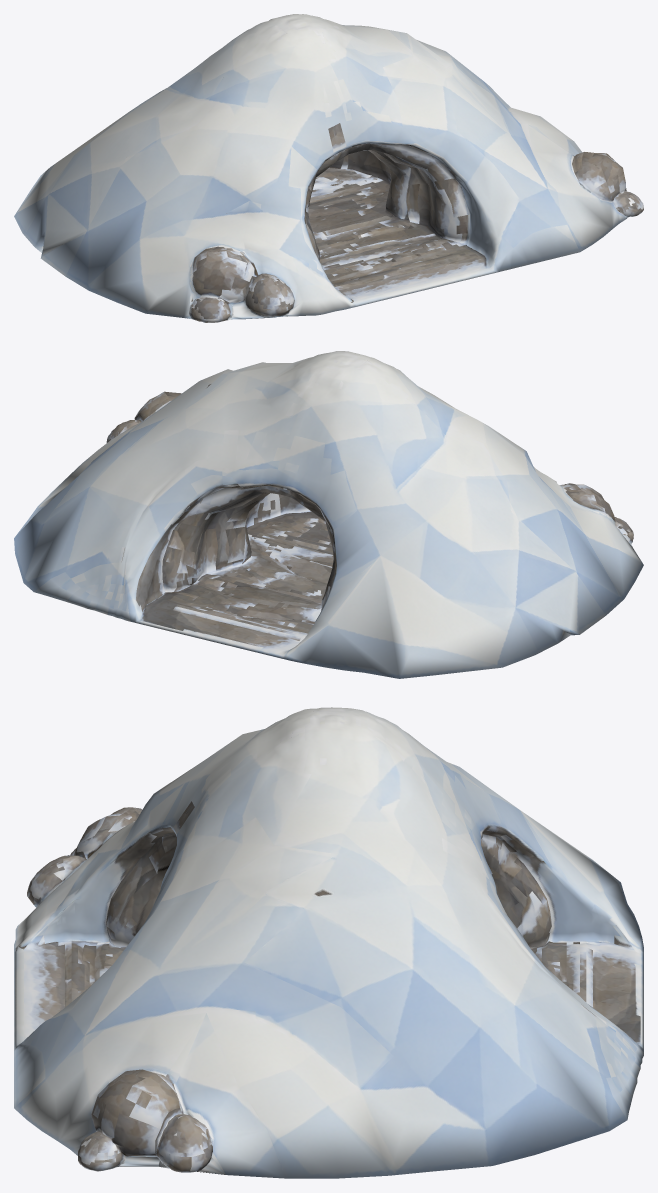
The model's file is mountain0_winter.glb.
The picture shows the model from 3 angles, top to bottom: view 1: azimuth 30°, elevation 25°; view 2: azimuth 150°, elevation 25°; view 3: azimuth 270°, elevation 25°; orthographic projection. The views are drawn at different scales.
Parts seen in each view (by area): view 1: tripo_node_a388ac05-881e-48f1-831d-48f19c5a9e62; view 2: tripo_node_a388ac05-881e-48f1-831d-48f19c5a9e62; view 3: tripo_node_a388ac05-881e-48f1-831d-48f19c5a9e62.
Boxes of the visible parts, x1,y1,x2,y2 form: tripo_node_a388ac05-881e-48f1-831d-48f19c5a9e62: (14, 14, 643, 322); tripo_node_a388ac05-881e-48f1-831d-48f19c5a9e62: (14, 351, 643, 678); tripo_node_a388ac05-881e-48f1-831d-48f19c5a9e62: (14, 707, 643, 1178).
Size of the model in its own units: 0.9983 by 0.3536 by 0.7482.
1 material, 1 textured.
